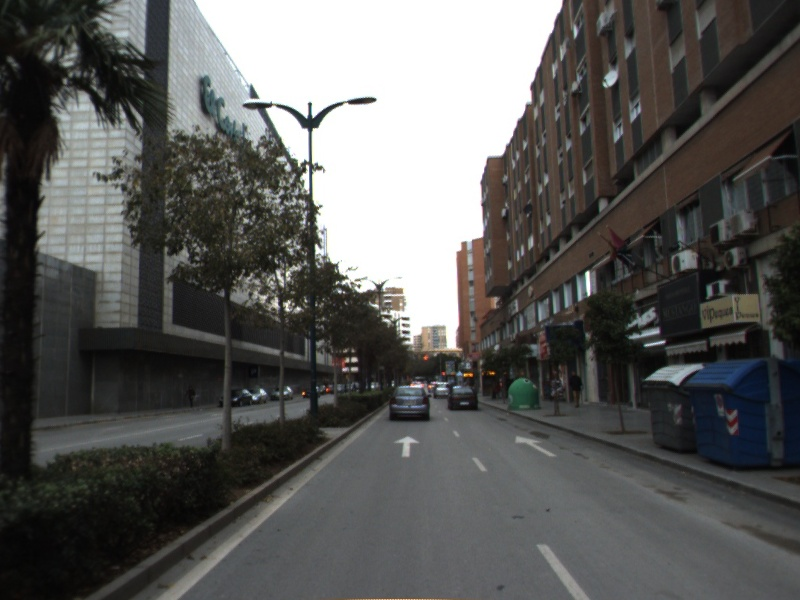STRAIGHT: (512, 434, 560, 458), (392, 434, 422, 459)
